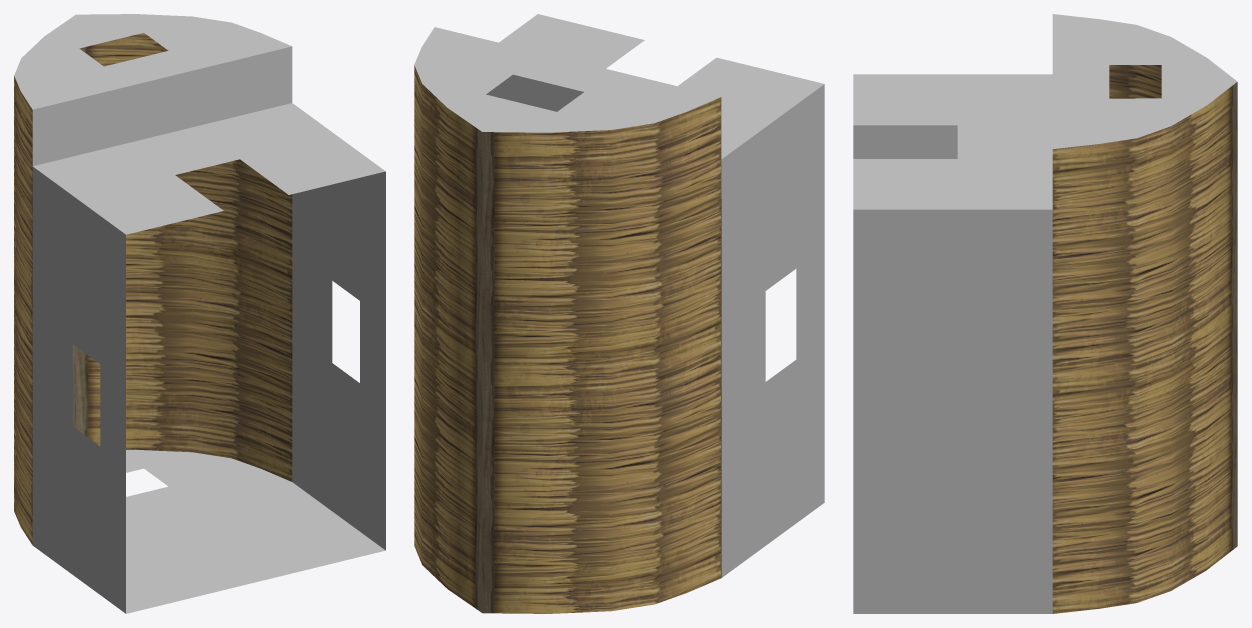
Rendered from Pirate_House_Exterior_Type01_B.fbx.
3 renders of one model, left to right at view 1: azimuth 30°, elevation 25°; view 2: azimuth 150°, elevation 25°; view 3: azimuth 270°, elevation 25°, orthographic. The views are drawn at different scales.
Parts seen in each view (by area): view 1: Pirate_House_Exterior_Type01_B; view 2: Pirate_House_Exterior_Type01_B; view 3: Pirate_House_Exterior_Type01_B.
Boxes of the visible parts, box(x1,y1,x2,y2) form: Pirate_House_Exterior_Type01_B: box(14, 14, 385, 613); Pirate_House_Exterior_Type01_B: box(414, 14, 824, 613); Pirate_House_Exterior_Type01_B: box(853, 14, 1237, 613).
Size of the model in its own units: 6.49 by 10.4 by 7.79.
